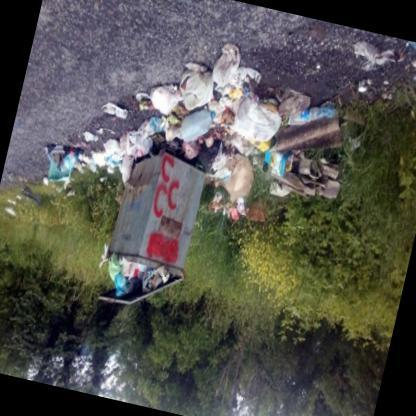Garbage: (175, 38, 302, 163), (30, 103, 136, 209), (164, 38, 244, 116), (238, 80, 308, 154), (99, 108, 149, 180), (217, 154, 273, 216), (31, 148, 92, 190), (119, 110, 159, 164), (110, 257, 160, 292)
